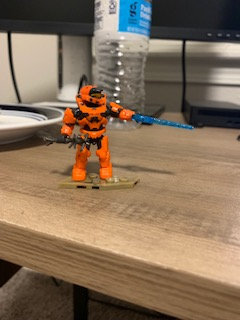spartan: (57, 83, 140, 187)
